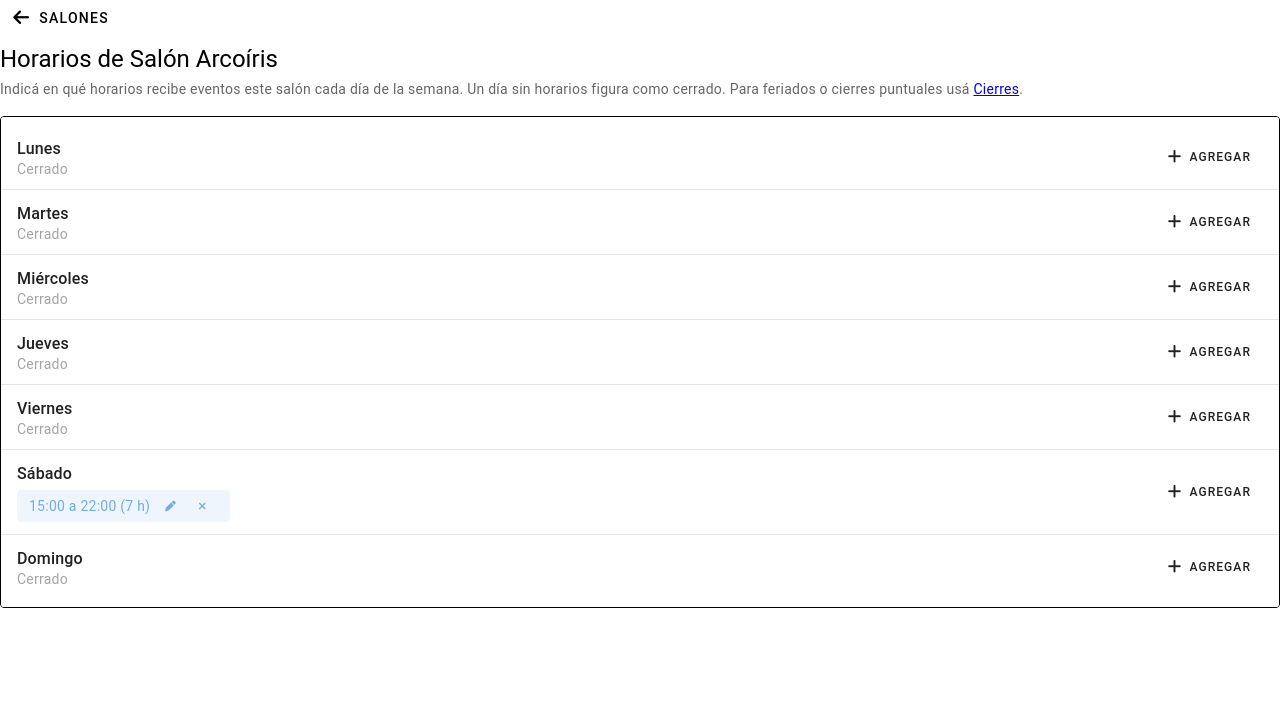
Test: HorariosSalonView › editar y quitar › si la API rechaza la edición, muestra el motivo y no cierra
This screenshot has width=1280, height=720.
Click the button named "Editar el horario del Sábado 15:00" at (170, 506), box [154, 490, 186, 522]
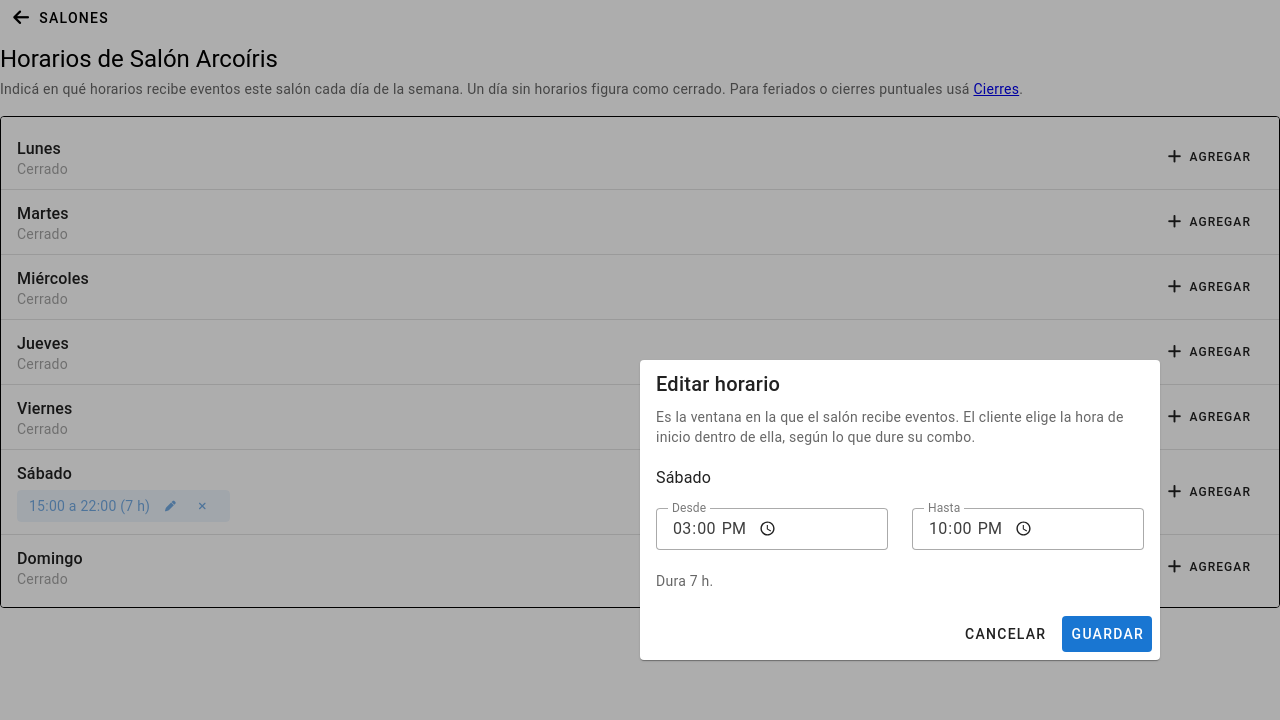
Replace the text in the time field labelled "Desde" with "14:00" at (772, 529), box [656, 508, 888, 550]
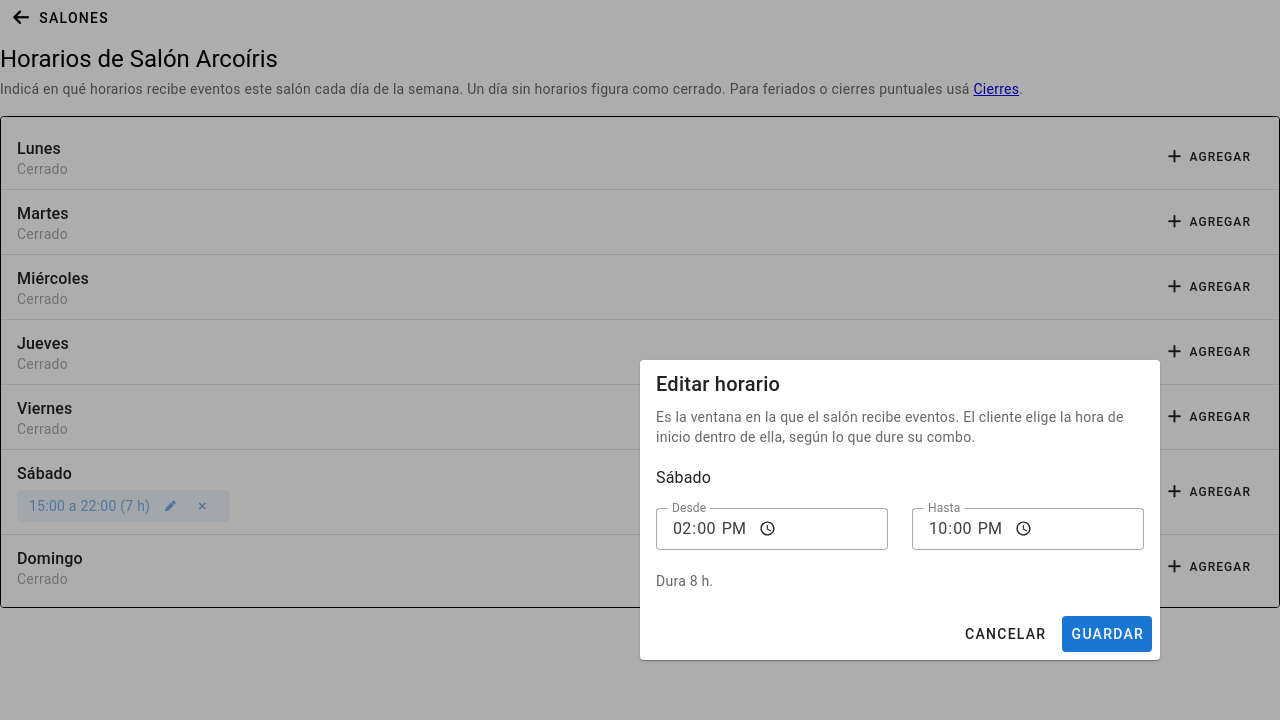
Now the button "Guardar" is shown
Click the button "Guardar" at (1107, 634), box [1062, 616, 1152, 652]
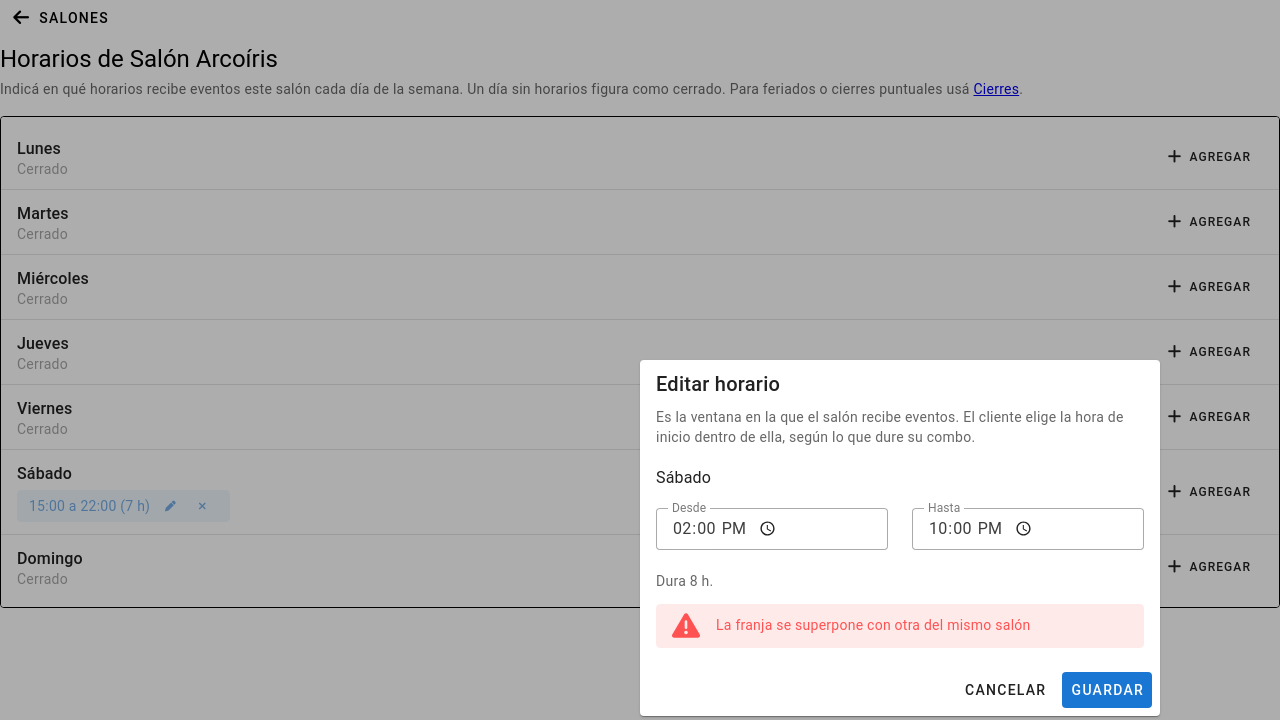
Now the text "La franja se superpone" is shown, box [716, 617, 1030, 633]
